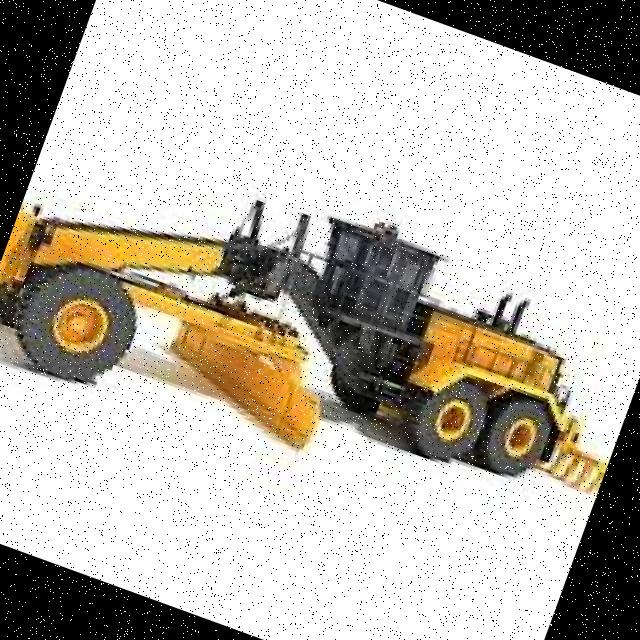Grader: (0, 92, 640, 591)
